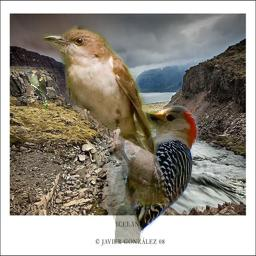Cuckoo: (41, 25, 169, 209), (24, 70, 49, 111)
Woodpecker: (110, 99, 216, 243)
